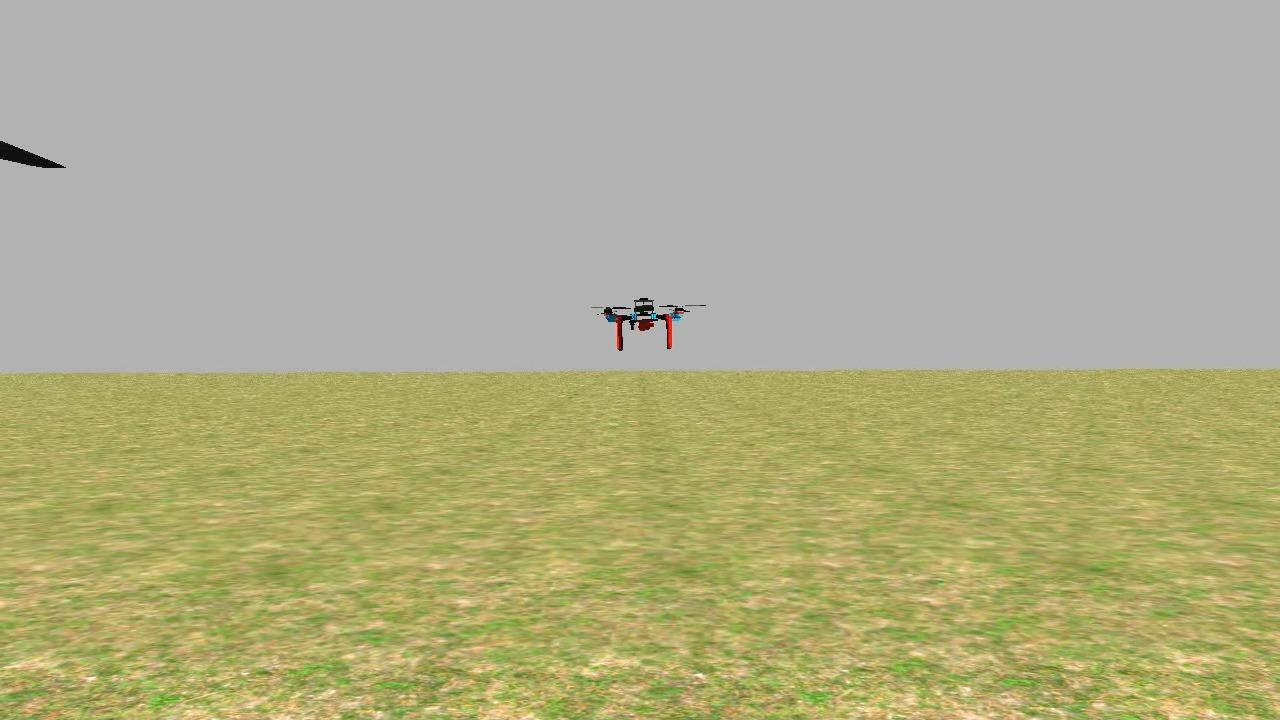UAV: (586, 284, 696, 356)
